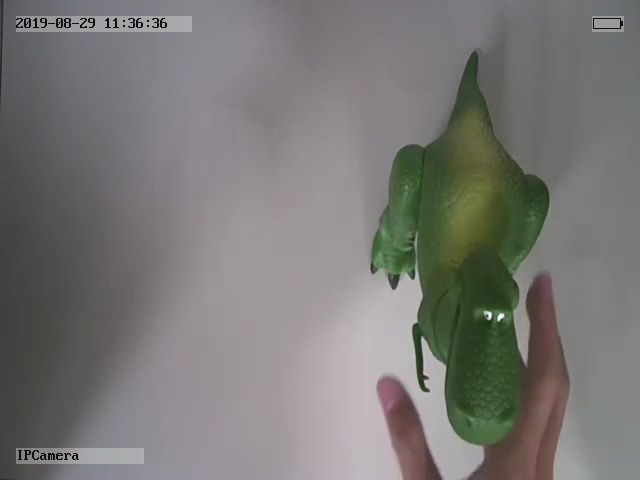rex: (369, 49, 551, 446)
